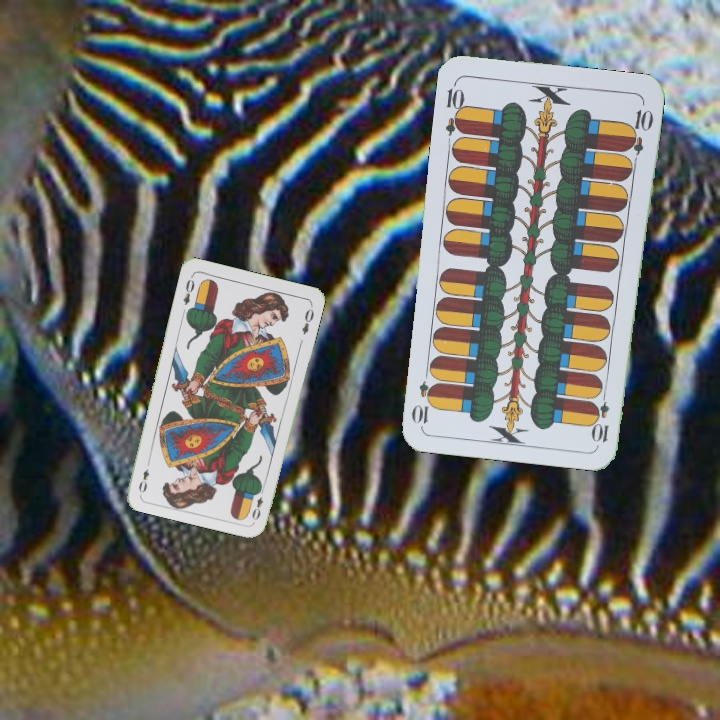E10: (441, 78, 468, 137), (591, 386, 612, 445)
EO: (248, 483, 267, 523), (179, 275, 197, 308)
